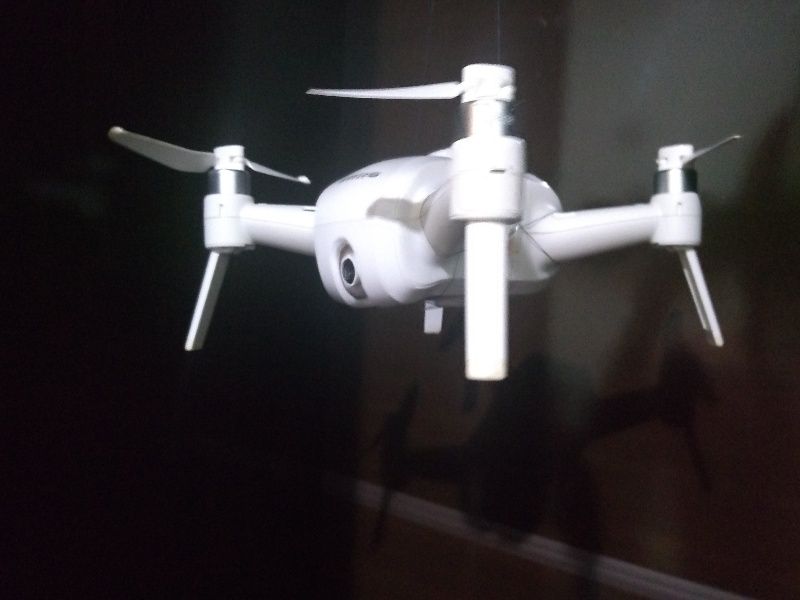drone: (110, 61, 739, 390)
